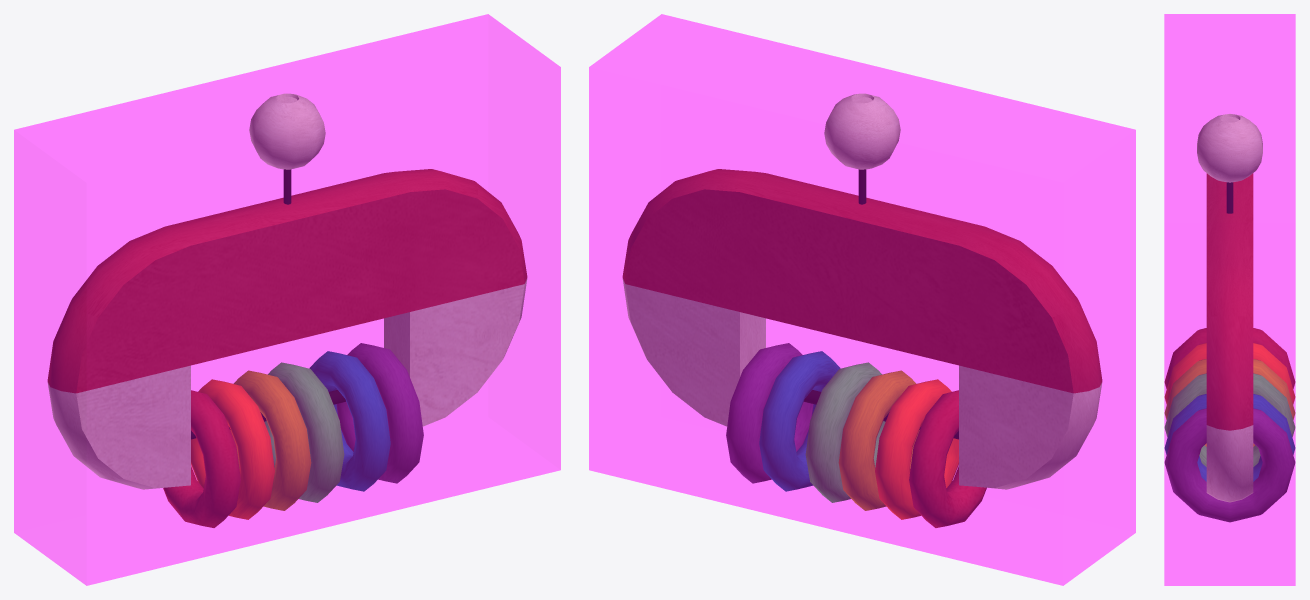
Rendered from babytoy_B.fbx.
The picture shows the model from 3 angles, left to right: view 1: azimuth 30°, elevation 25°; view 2: azimuth 150°, elevation 25°; view 3: azimuth 270°, elevation 25°; orthographic projection. The views are drawn at different scales.
Visible parts, largest first — view 1: boundingbox, toy_B; view 2: boundingbox, toy_B; view 3: boundingbox, toy_B.
Boxes of the visible parts, x1,y1,x2,y2 form: boundingbox: [14, 14, 560, 585]; toy_B: [47, 93, 527, 527]; boundingbox: [589, 14, 1135, 585]; toy_B: [622, 93, 1102, 527]; boundingbox: [1164, 14, 1295, 585]; toy_B: [1164, 114, 1295, 522].
Size of the model in its own units: 28.13 by 22.84 by 7.47.
5 materials, 3 textured.
